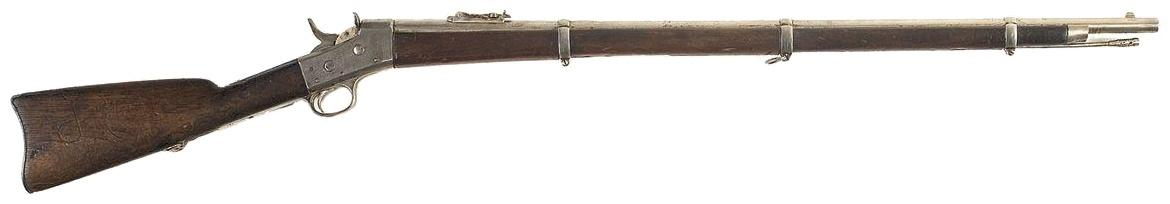blood: (1, 6, 1170, 204)
